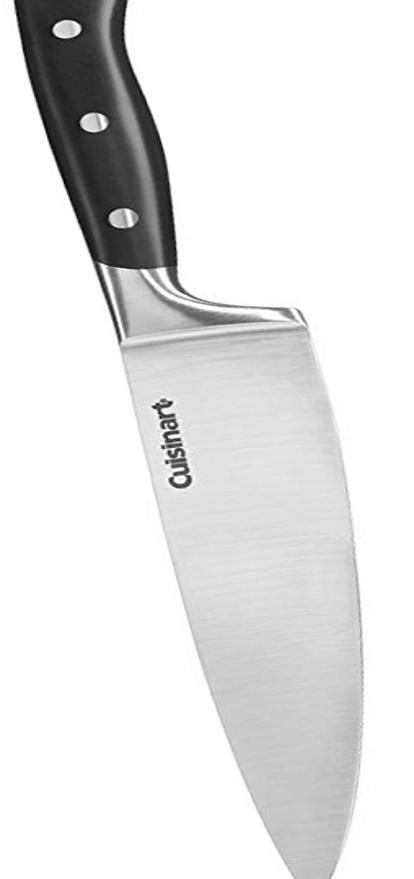knife: (8, 2, 364, 879)
